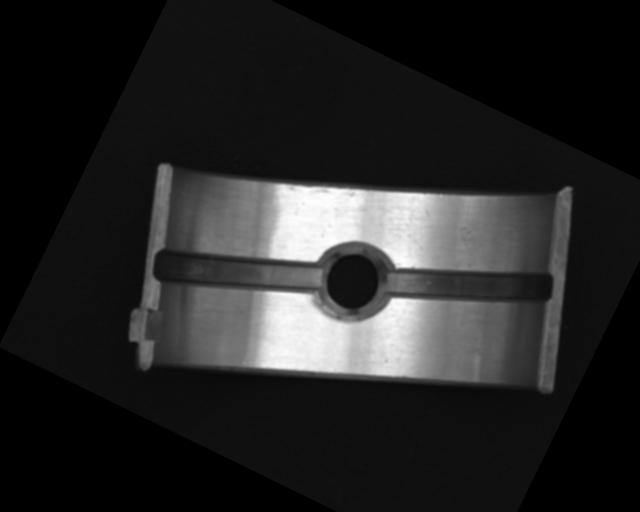gap: (378, 209, 560, 358), (149, 200, 325, 342)
hole: (305, 232, 400, 330)
